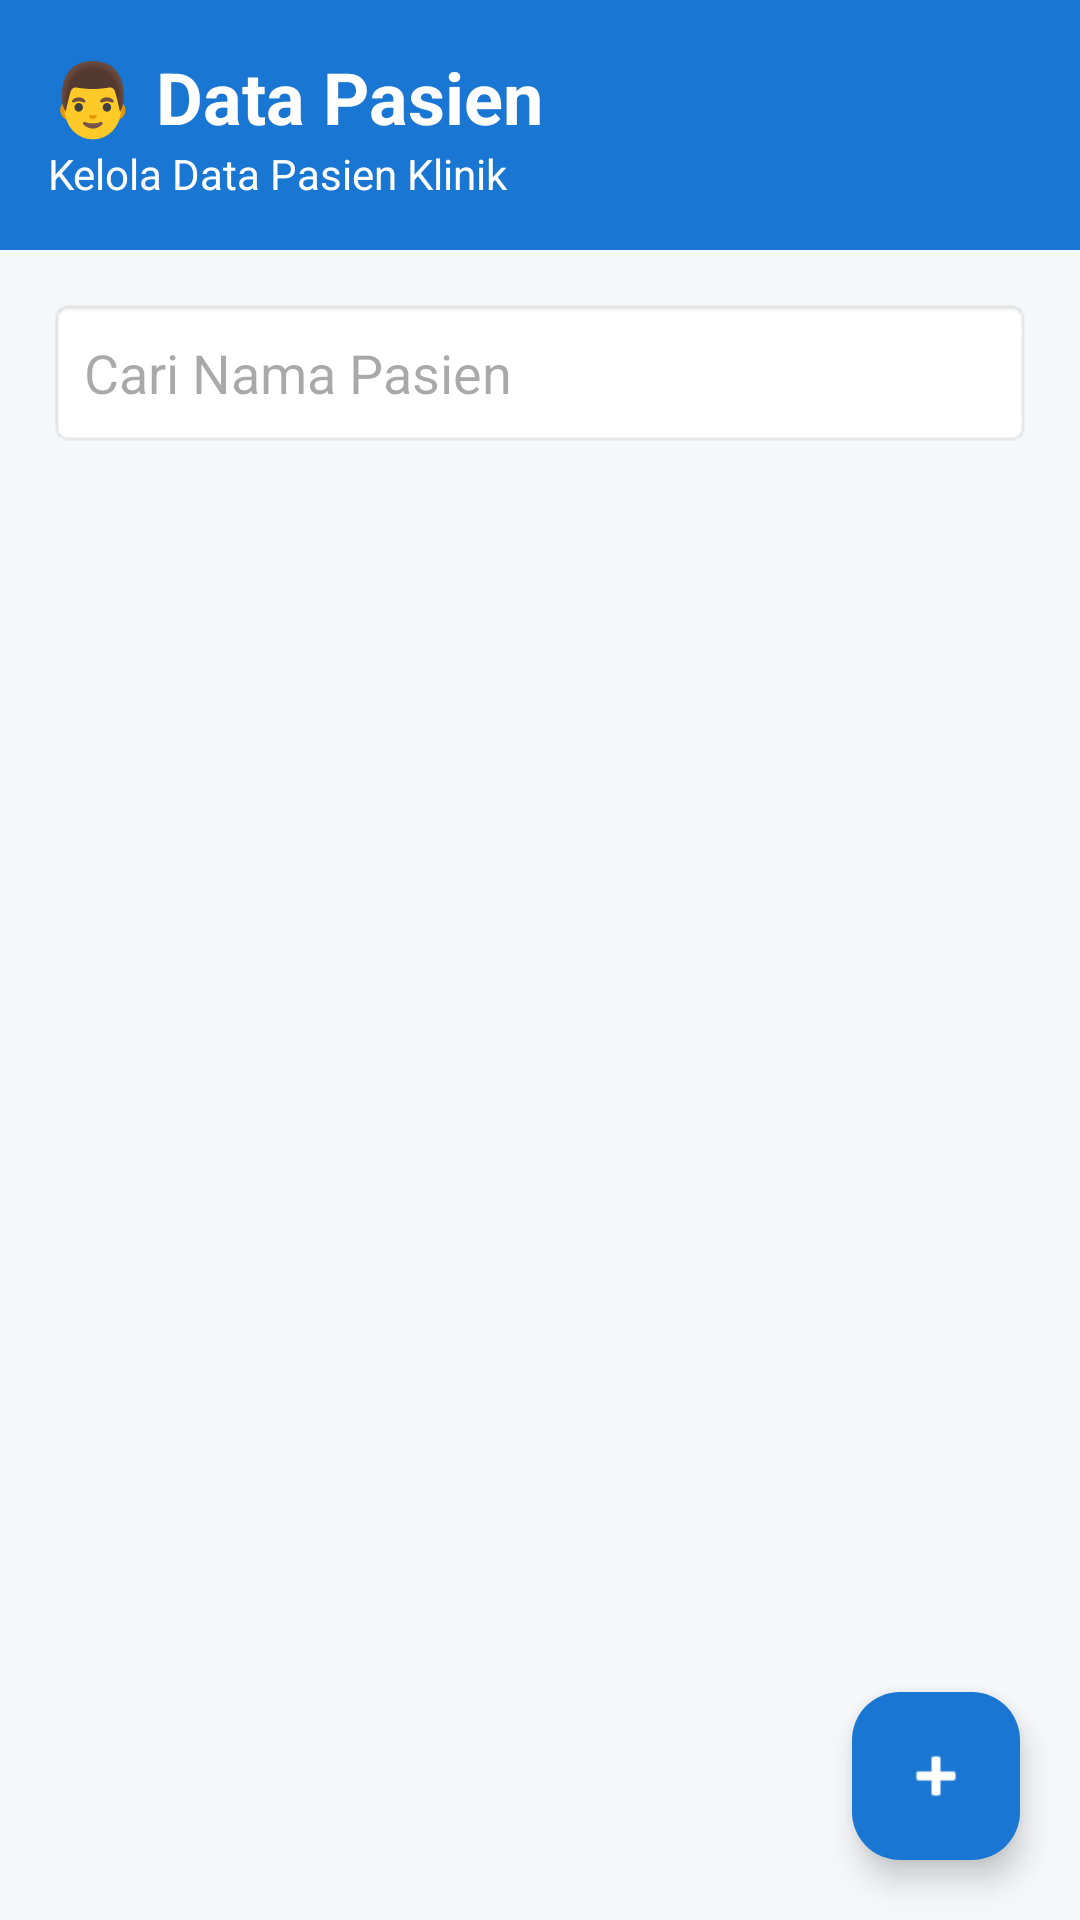

Where to tap for icons on this 1080px x 1920px app screen, as point (x, y):
Tambah Pasien: point (936, 1776)
